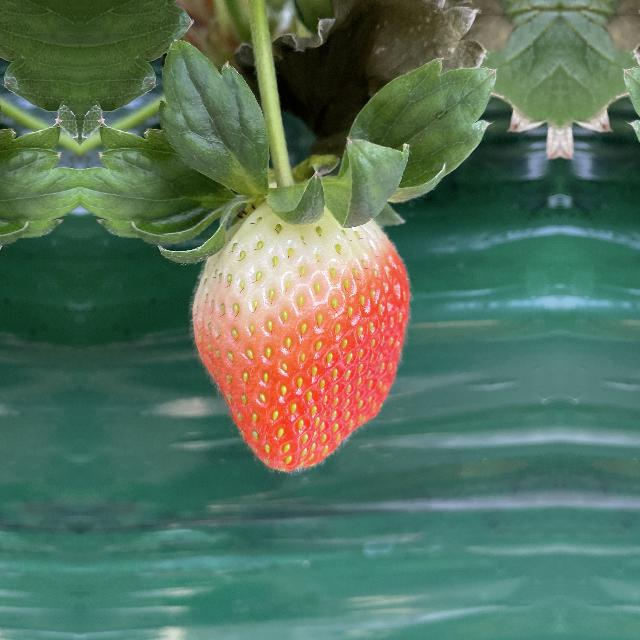Health_75: (176, 176, 420, 476)
